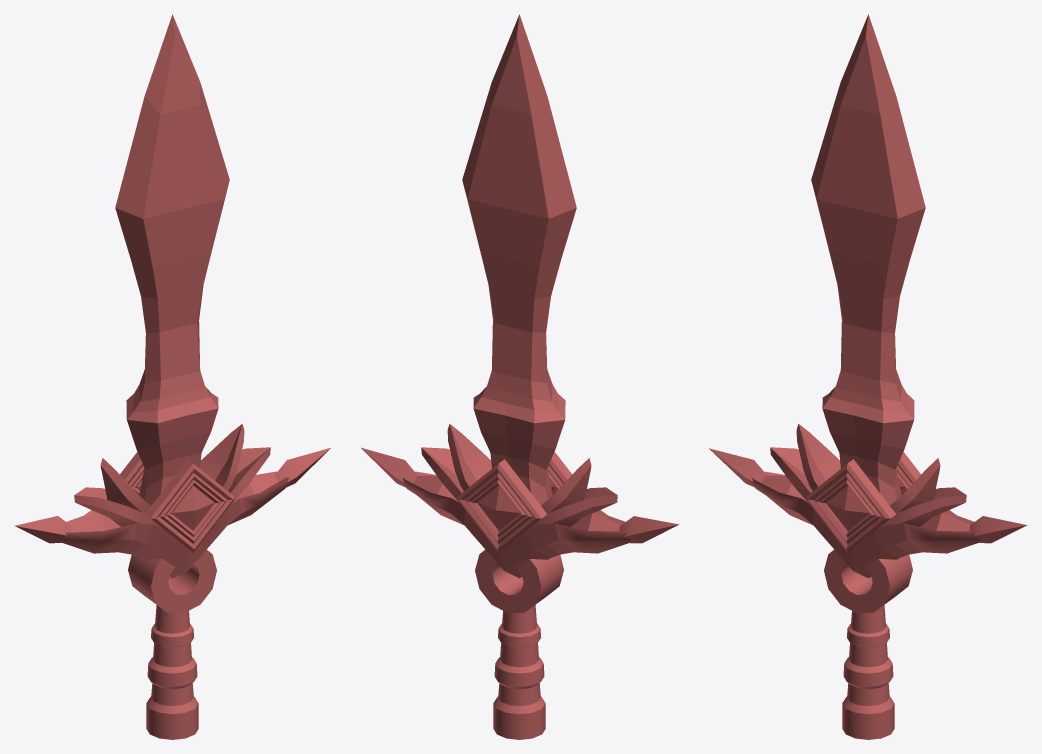
File: sword (1).fbx
The picture shows the model from 3 angles, left to right: view 1: azimuth 30°, elevation 25°; view 2: azimuth 150°, elevation 25°; view 3: azimuth 330°, elevation 25°; orthographic projection.
Visible parts, largest first — view 1: crystal3; view 2: crystal3; view 3: crystal3.
Boxes of the visible parts, x1,y1,x2,y2 form: crystal3: (14, 14, 330, 739); crystal3: (361, 14, 679, 739); crystal3: (709, 14, 1027, 739).
Size of the model in its own units: 0.4388 by 0.946 by 0.1132.
